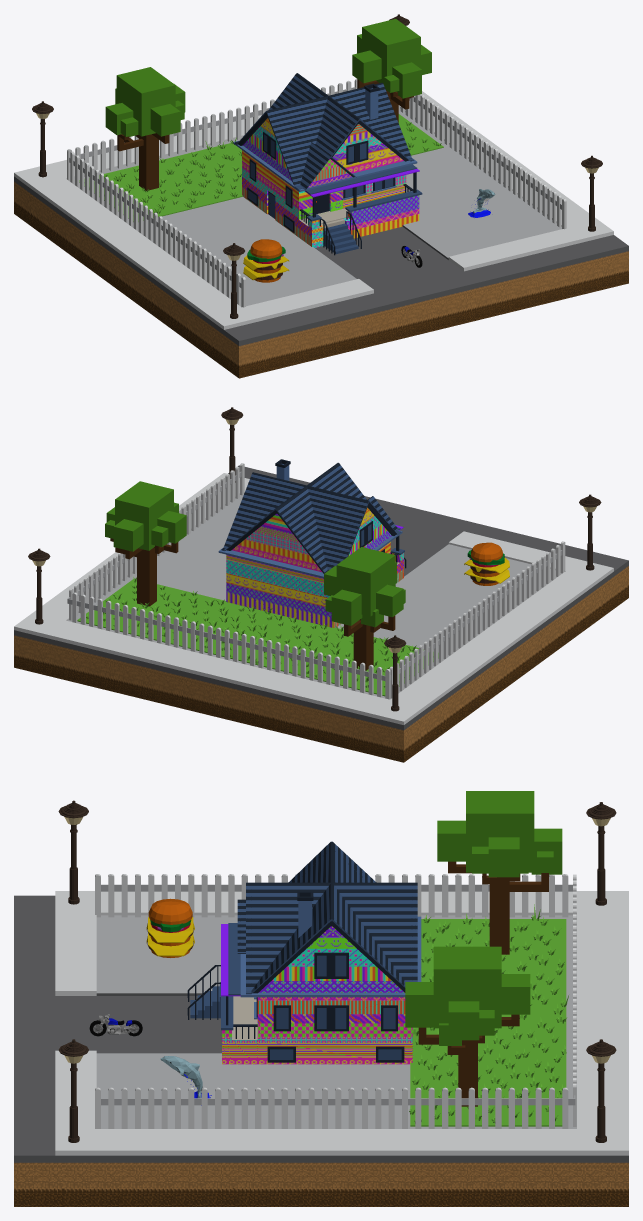
3 views of the same model, one above another, from view 1: azimuth 30°, elevation 25°; view 2: azimuth 150°, elevation 25°; view 3: azimuth 270°, elevation 25° (orthographic). The views are drawn at different scales.
Parts seen in each view (by area): view 1: Cube.004, Cube.676, OBJRANDOM_HAMBURGER; view 2: Cube.004, Cube.676, OBJRANDOM_HAMBURGER; view 3: Cube.004, Cube.676, OBJRANDOM_HAMBURGER, VEHICLES_CHOPPER, ANIMAL_DELFIN.
Part boxes in pixels (x1=…): Cube.004: x1=14, y1=14, x2=628, y2=378; Cube.676: x1=233, y1=73, x2=422, y2=255; OBJRANDOM_HAMBURGER: x1=243, y1=239, x2=289, y2=282; Cube.004: x1=14, y1=407, x2=628, y2=762; Cube.676: x1=218, y1=459, x2=406, y2=627; OBJRANDOM_HAMBURGER: x1=464, y1=542, x2=509, y2=585; Cube.004: x1=14, y1=791, x2=628, y2=1206; Cube.676: x1=187, y1=841, x2=421, y2=1064; OBJRANDOM_HAMBURGER: x1=146, y1=898, x2=194, y2=957; VEHICLES_CHOPPER: x1=89, y1=1014, x2=142, y2=1036; ANIMAL_DELFIN: x1=160, y1=1056, x2=211, y2=1105.
Size of the model in its own units: 4000 by 1579 by 4000.
38 materials, 7 textured.
